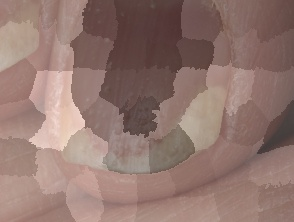Nail_psoriasis: (40, 0, 236, 180)
